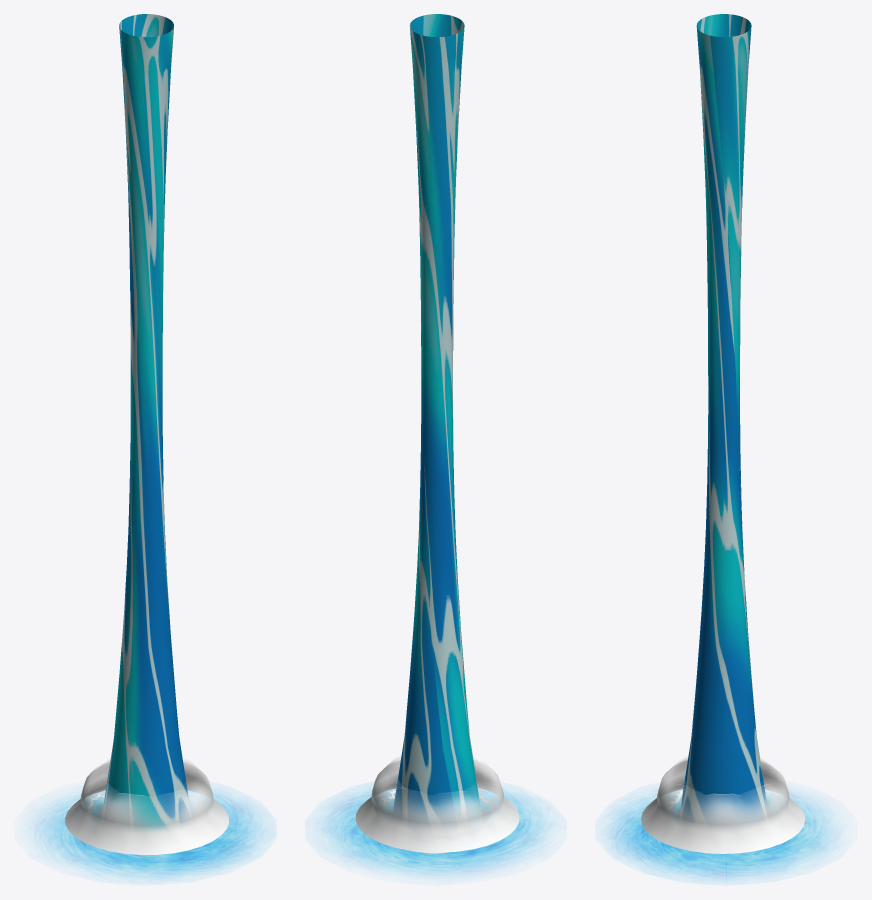
The model's file is VFX_WaterSproudBlockout_GLTF.gltf.
The picture shows the model from 3 angles, left to right: view 1: azimuth 30°, elevation 25°; view 2: azimuth 150°, elevation 25°; view 3: azimuth 270°, elevation 25°; orthographic projection.
Visible parts, largest first — view 1: Sproud_Vertical_Mesh, Explosion_Sphere_Mesh, Circle_Big_Mesh; view 2: Sproud_Vertical_Mesh, Explosion_Sphere_Mesh, Circle_Big_Mesh; view 3: Sproud_Vertical_Mesh, Explosion_Sphere_Mesh, Circle_Big_Mesh.
Boxes of the visible parts, left/top/right/bottom form: Sproud_Vertical_Mesh: left=103, top=14, right=189, bottom=828; Explosion_Sphere_Mesh: left=65, top=759, right=229, bottom=854; Circle_Big_Mesh: left=34, top=788, right=270, bottom=880; Sproud_Vertical_Mesh: left=393, top=14, right=480, bottom=821; Explosion_Sphere_Mesh: left=355, top=756, right=519, bottom=852; Circle_Big_Mesh: left=317, top=785, right=552, bottom=876; Sproud_Vertical_Mesh: left=679, top=14, right=767, bottom=822; Explosion_Sphere_Mesh: left=641, top=756, right=805, bottom=853; Circle_Big_Mesh: left=605, top=790, right=837, bottom=883.
Bounding box in the file's own units: 5.04 × 16.8 × 4.96.
Materials: 5 (5 with a texture image).
